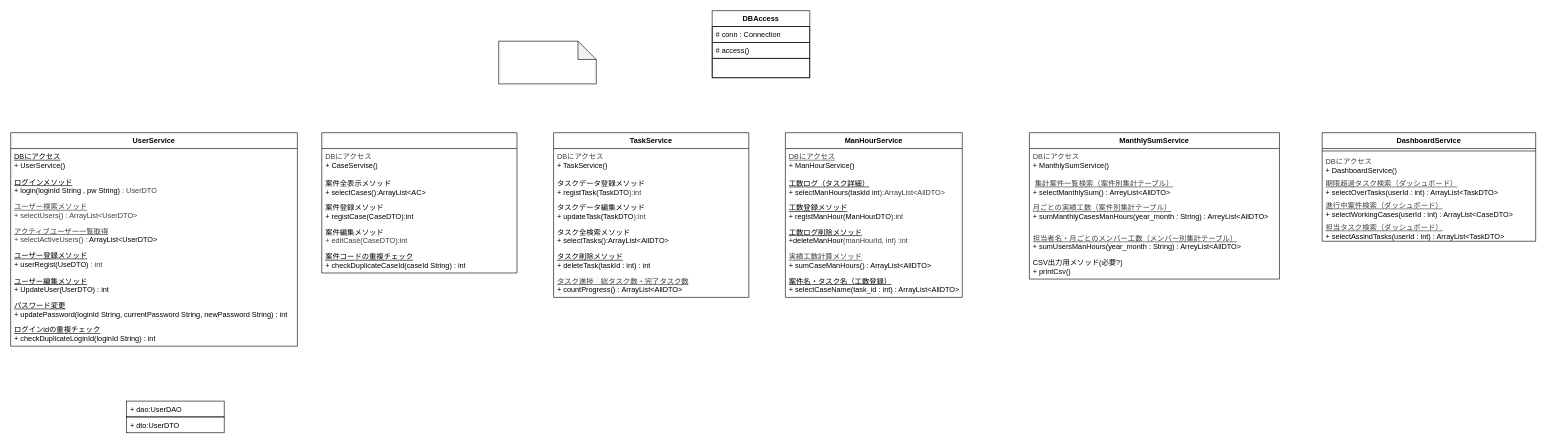
This 1546x445 diagram has some shape labels left out. Each missing label, with the box of its shape:
# close(): (712, 58, 810, 78)
CaseService: (321, 132, 517, 273)
各クラス名のメソッドは DBAccess を継承するもの。: (498, 41, 596, 84)
